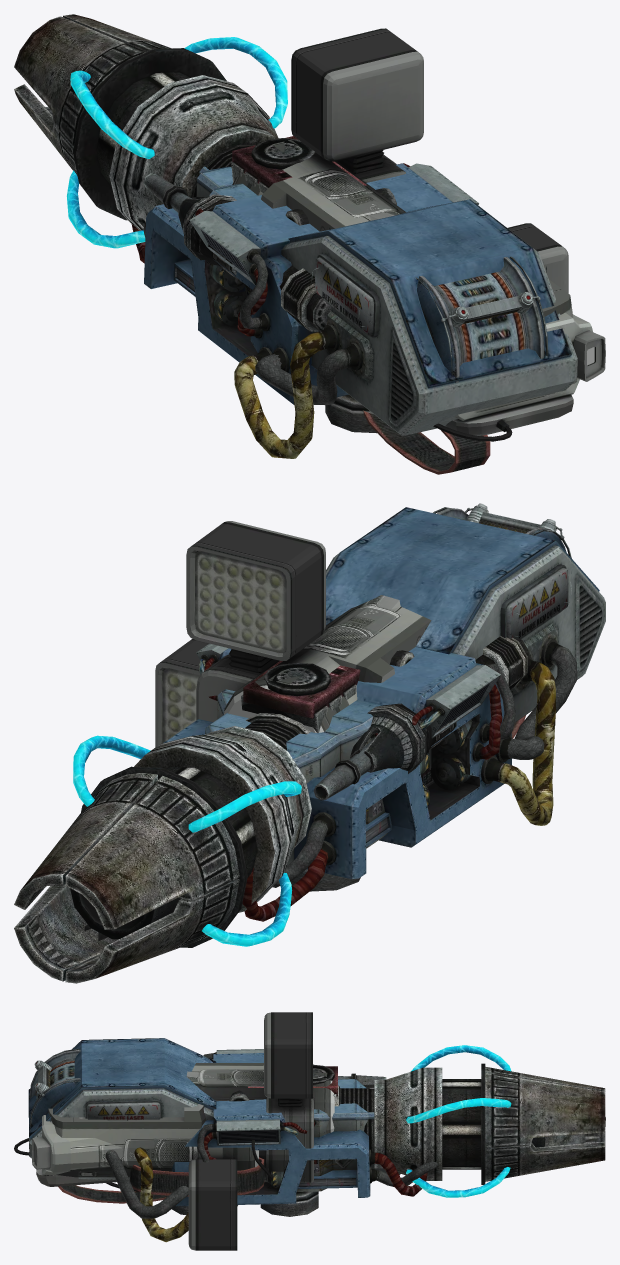
File: hollow-heavy.glb
3 views of the same model, one above another, from view 1: azimuth 30°, elevation 25°; view 2: azimuth 150°, elevation 25°; view 3: azimuth 270°, elevation 25° (orthographic). The views are drawn at different scales.
Parts seen in each view (by area): view 1: Object_9, Object_8, Object_40, Object_47, Object_54; view 2: Object_9, Object_8, Object_40, Object_54, Object_47; view 3: Object_9, Object_8, Object_47, Object_40, Object_54.
Boxes of the visible parts, left/top/right/bottom form: Object_9: left=131, top=163, right=577, bottom=458; Object_8: left=14, top=14, right=396, bottom=433; Object_40: left=232, top=28, right=423, bottom=231; Object_47: left=363, top=223, right=605, bottom=474; Object_54: left=66, top=37, right=287, bottom=248; Object_9: left=163, top=503, right=605, bottom=921; Object_8: left=14, top=636, right=529, bottom=983; Object_40: left=186, top=521, right=431, bottom=732; Object_54: left=73, top=735, right=301, bottom=946; Object_47: left=155, top=638, right=525, bottom=746; Object_9: left=28, top=1038, right=442, bottom=1242; Object_8: left=171, top=1063, right=605, bottom=1216; Object_47: left=14, top=1104, right=258, bottom=1250; Object_40: left=106, top=1012, right=334, bottom=1196; Object_54: left=403, top=1045, right=511, bottom=1197.
Bounding box in the file's own units: 0.4199 × 0.3658 × 0.9996.
4 materials, 4 textured.
